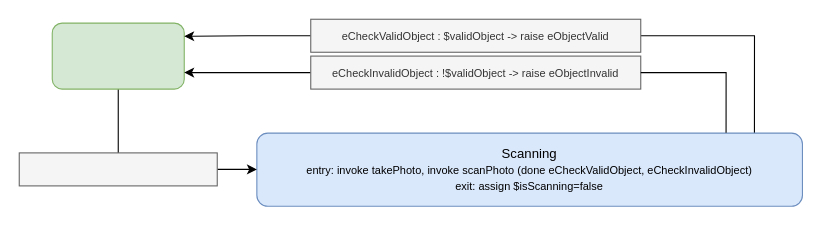
The diagram is 822 pixels wide and 226 high, and some of its shapes have lost their labels. Here are the shapes that lost their labels. From the top down, the centre of each, then its label:
[117,55]: Idle
[117,169]: eStartScan: -> assign $isScanning=true
